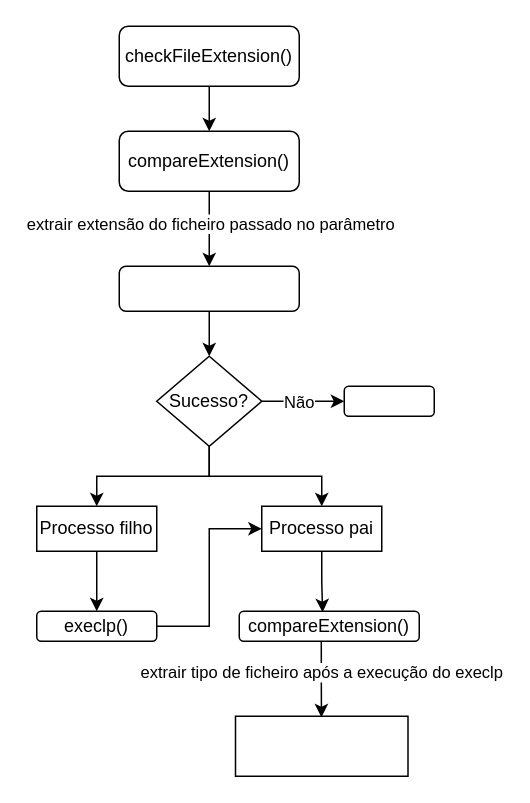
Image size: 530x803. Some labels were removed from this diagram. Here are the shapes that lost their labels. From the top down, the centre of each, then its label:
At [208,288]: "fork()".
At [388,400]: "Erro".
At [321,745]: "resultado da comparação".
